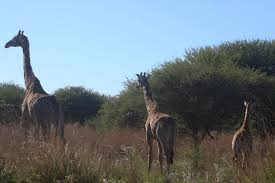Jirafa: (2, 26, 84, 154), (126, 69, 184, 182), (230, 93, 258, 167)
